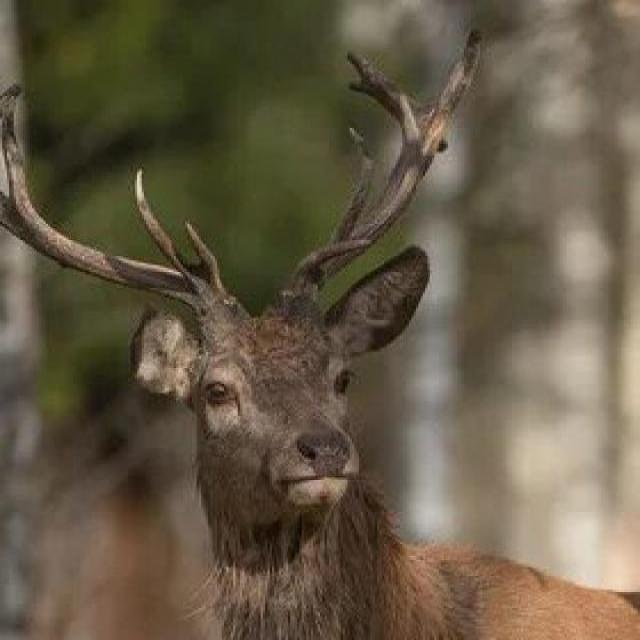deer: (10, 53, 631, 640)
